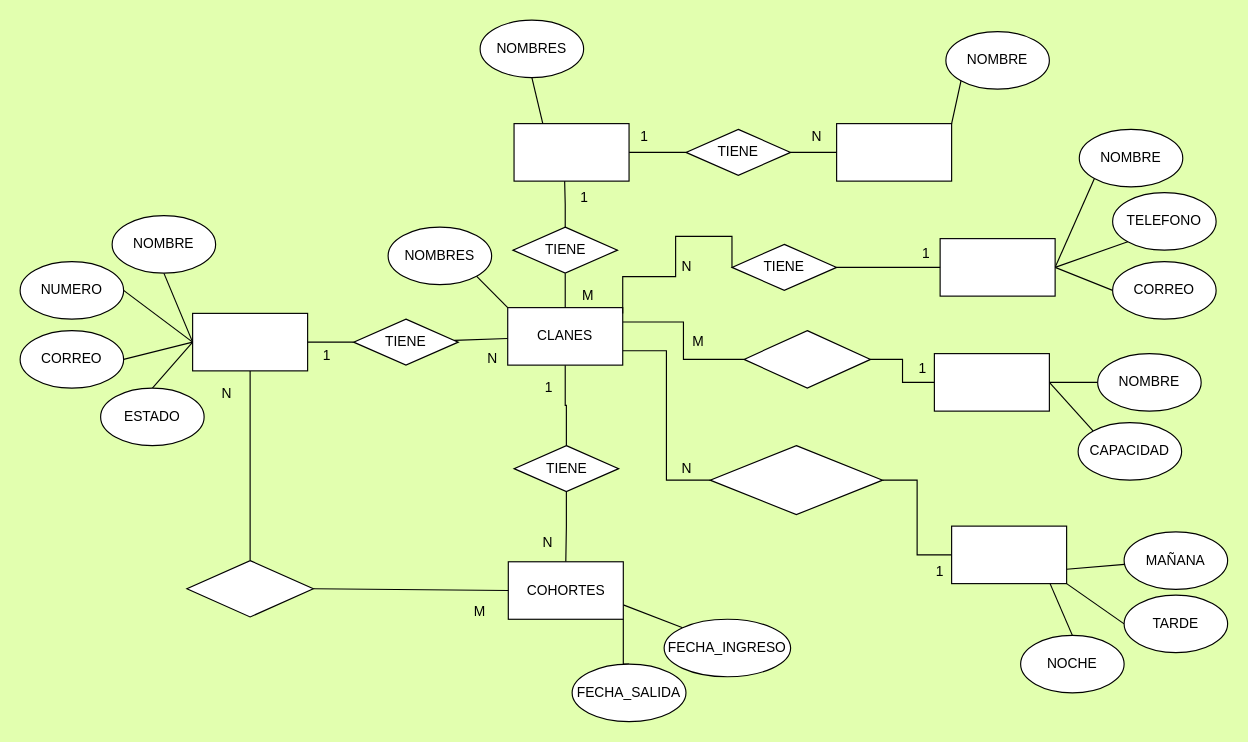
The diagram is 1248 pixels wide and 742 high, and some of its shapes have lost their labels. Here are the shapes that lost their labels. From the top down, the centre of each, then its label:
At [571,151]: "RUTAS".
At [893,151]: "MODULOS".
At [997,266]: "TL".
At [249,341]: "CODERS".
At [807,358]: "ASIGNADO A".
At [991,381]: "SALAS".
At [796,479]: "SE PROGRAMA EN".
At [1008,554]: "JORNADAS".
At [249,588]: "PERTENECE A".
